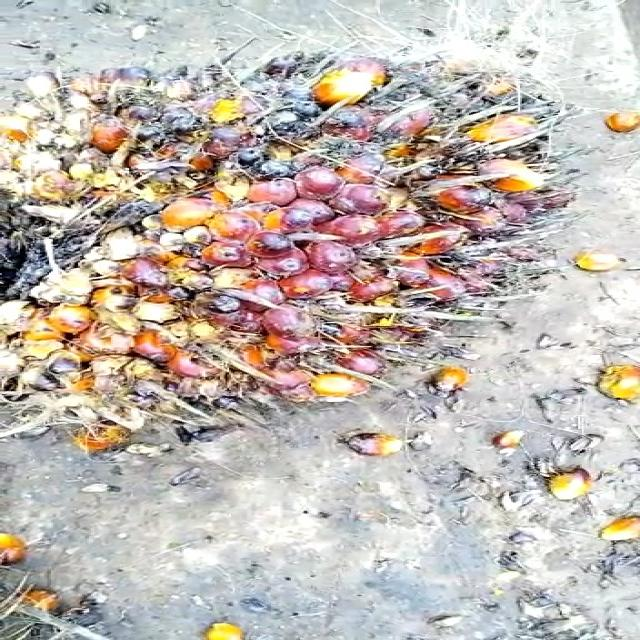palm oil: (0, 56, 573, 488)
